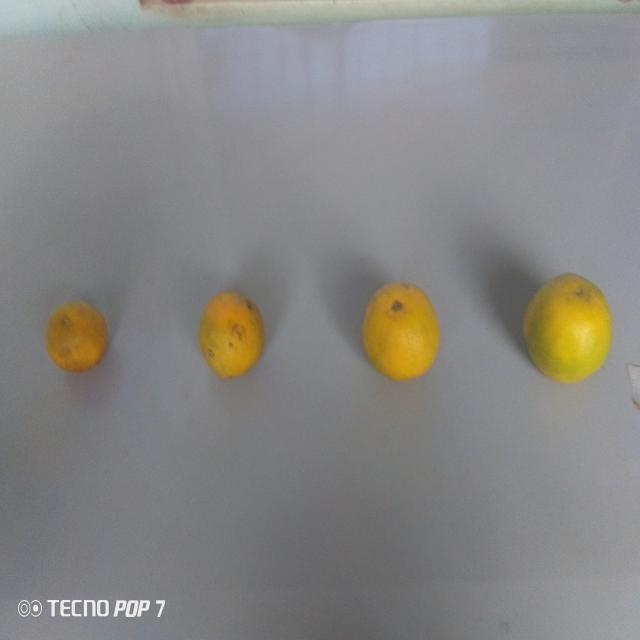Ripe orange: (522, 266, 616, 390), (358, 270, 441, 394), (39, 285, 119, 383), (197, 289, 269, 380)
